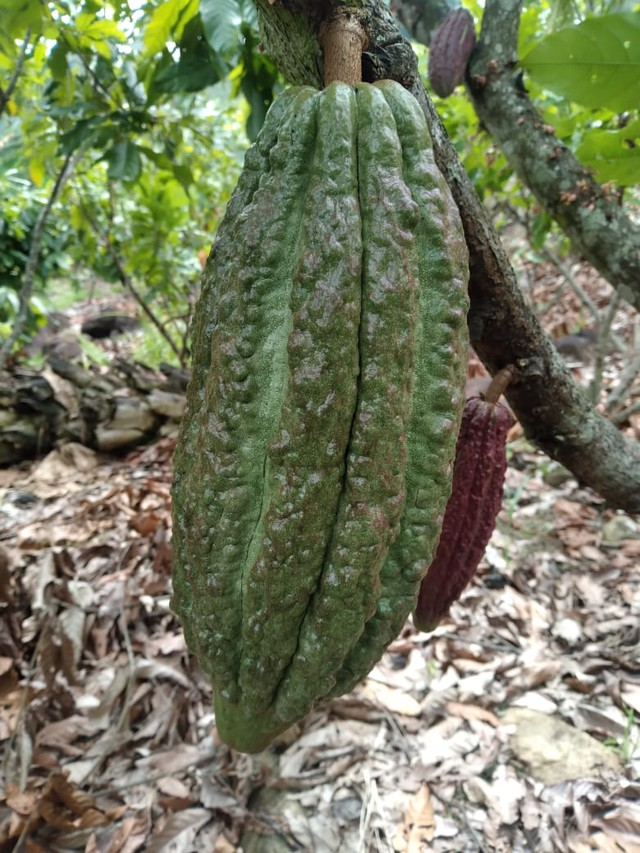Health: (150, 61, 481, 772)
